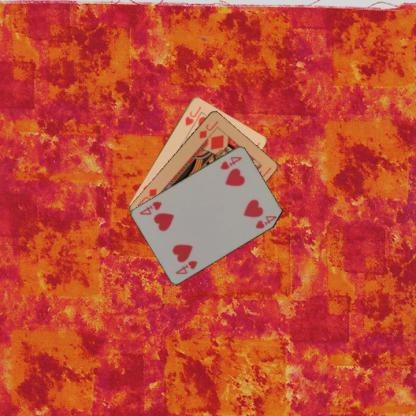4h: (173, 258, 199, 275), (218, 154, 243, 170)
Jd: (196, 118, 219, 140)
Jh: (183, 104, 202, 127)
